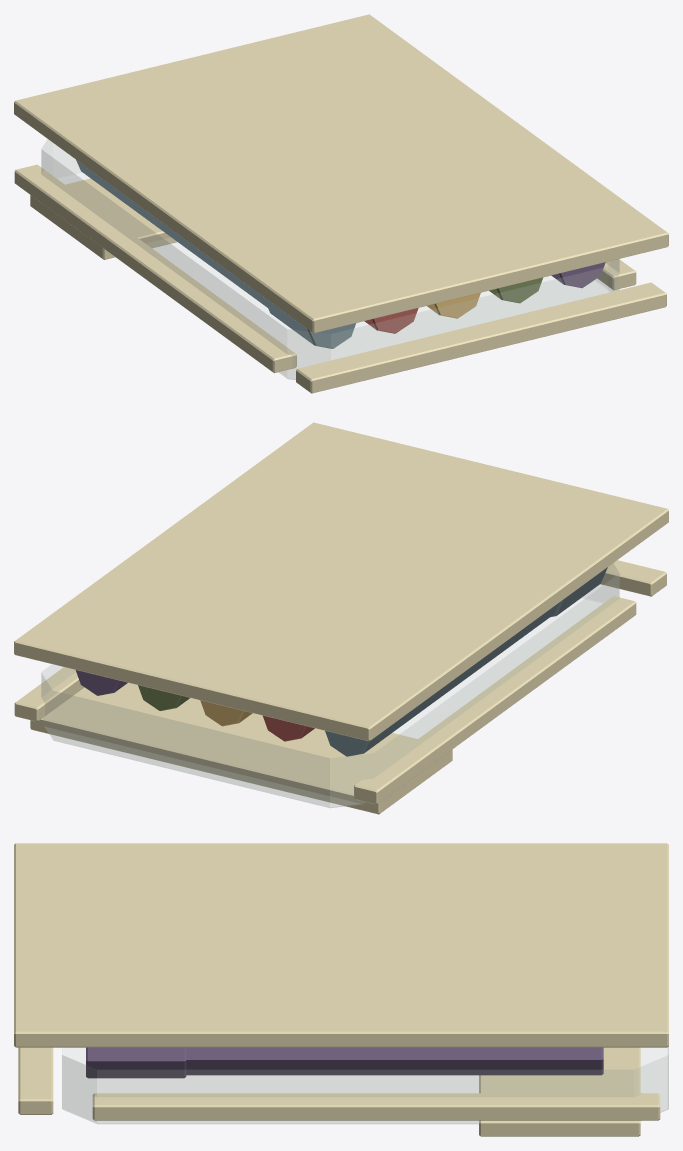
File: markers.glb
The picture shows the model from 3 angles, top to bottom: view 1: azimuth 30°, elevation 25°; view 2: azimuth 150°, elevation 25°; view 3: azimuth 270°, elevation 25°; orthographic projection. The views are drawn at different scales.
Parts seen in each view (by area): view 1: markers; view 2: markers; view 3: markers.
Part boxes in pixels (left/top/right/bottom): markers: left=14, top=14, right=668, bottom=393; markers: left=14, top=422, right=668, bottom=814; markers: left=14, top=843, right=668, bottom=1136.
Bounding box in the file's own units: 0.105 × 0.0277 × 0.15.
